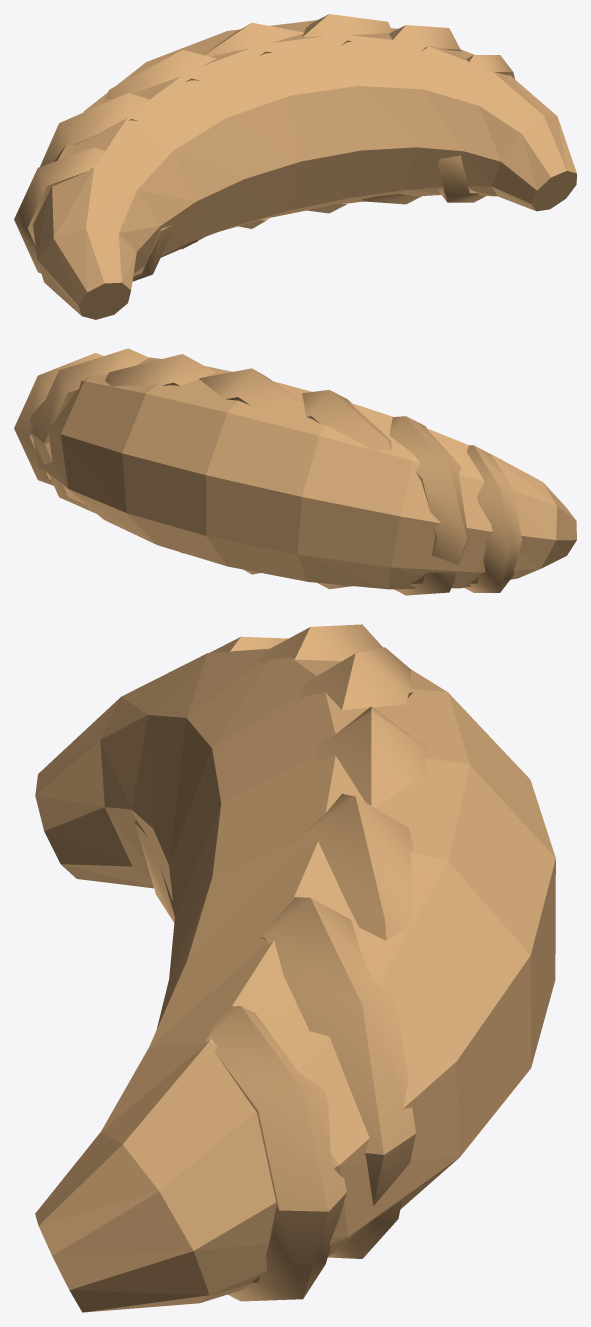
The model's file is bakery-and-cafe-croissant-1092fb93__22239.glb.
The picture shows the model from 3 angles, top to bottom: view 1: azimuth 30°, elevation 25°; view 2: azimuth 150°, elevation 25°; view 3: azimuth 270°, elevation 25°; orthographic projection. The views are drawn at different scales.
Parts seen in each view (by area): view 1: croissant; view 2: croissant; view 3: croissant.
Boxes of the visible parts, x1,y1,x2,y2 form: croissant: (14, 14, 576, 319); croissant: (14, 348, 576, 595); croissant: (35, 624, 555, 1312).
Bounding box in the file's own units: 0.1953 × 0.0742 × 0.0849.
